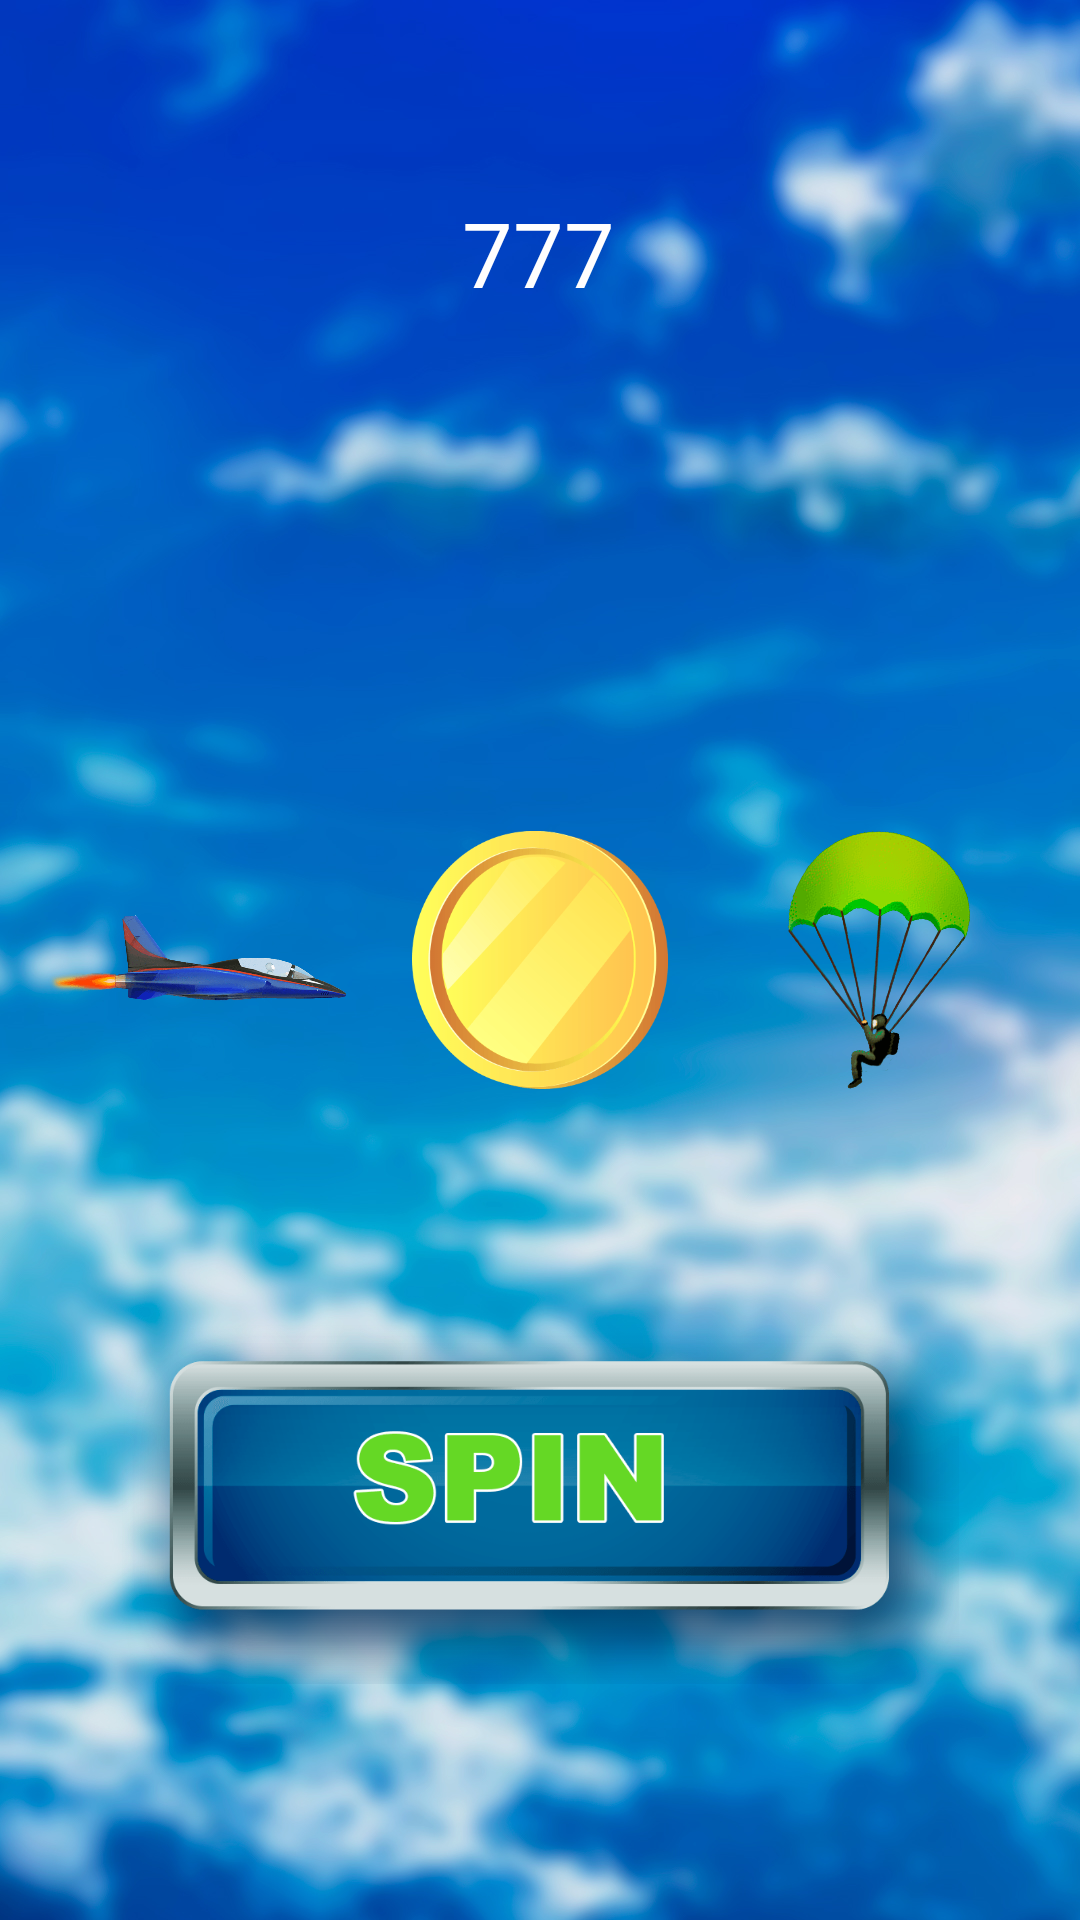

Icon bounding boxes for this 1080 x 1920 phone screenshot, format (x1=x1, y1=y1, x2=x2, y2=y2):
coinc: (x1=387, y1=831, x2=693, y2=1089)
